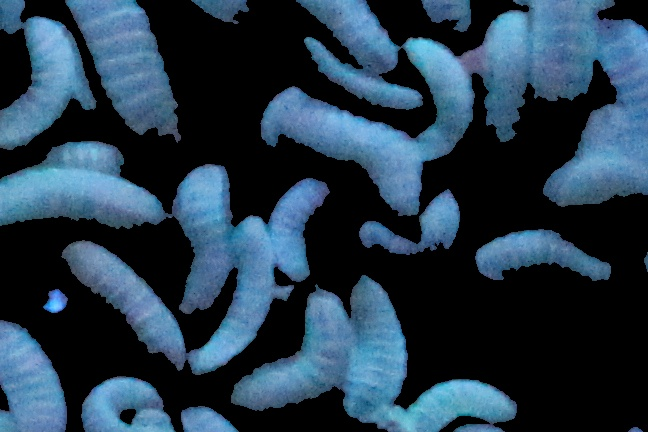larvae: (273, 103, 431, 234), (66, 240, 185, 369), (78, 1, 185, 137), (233, 288, 345, 413), (1, 168, 168, 237), (199, 216, 272, 373), (342, 272, 411, 418), (298, 37, 424, 110), (1, 23, 76, 144), (473, 230, 616, 290), (174, 159, 226, 319), (400, 44, 471, 161), (526, 1, 585, 140), (293, 1, 406, 71), (473, 11, 532, 144), (1, 314, 67, 432), (593, 14, 648, 137), (396, 374, 518, 429), (270, 168, 326, 282), (543, 152, 645, 207), (83, 378, 164, 432), (33, 138, 125, 174)
